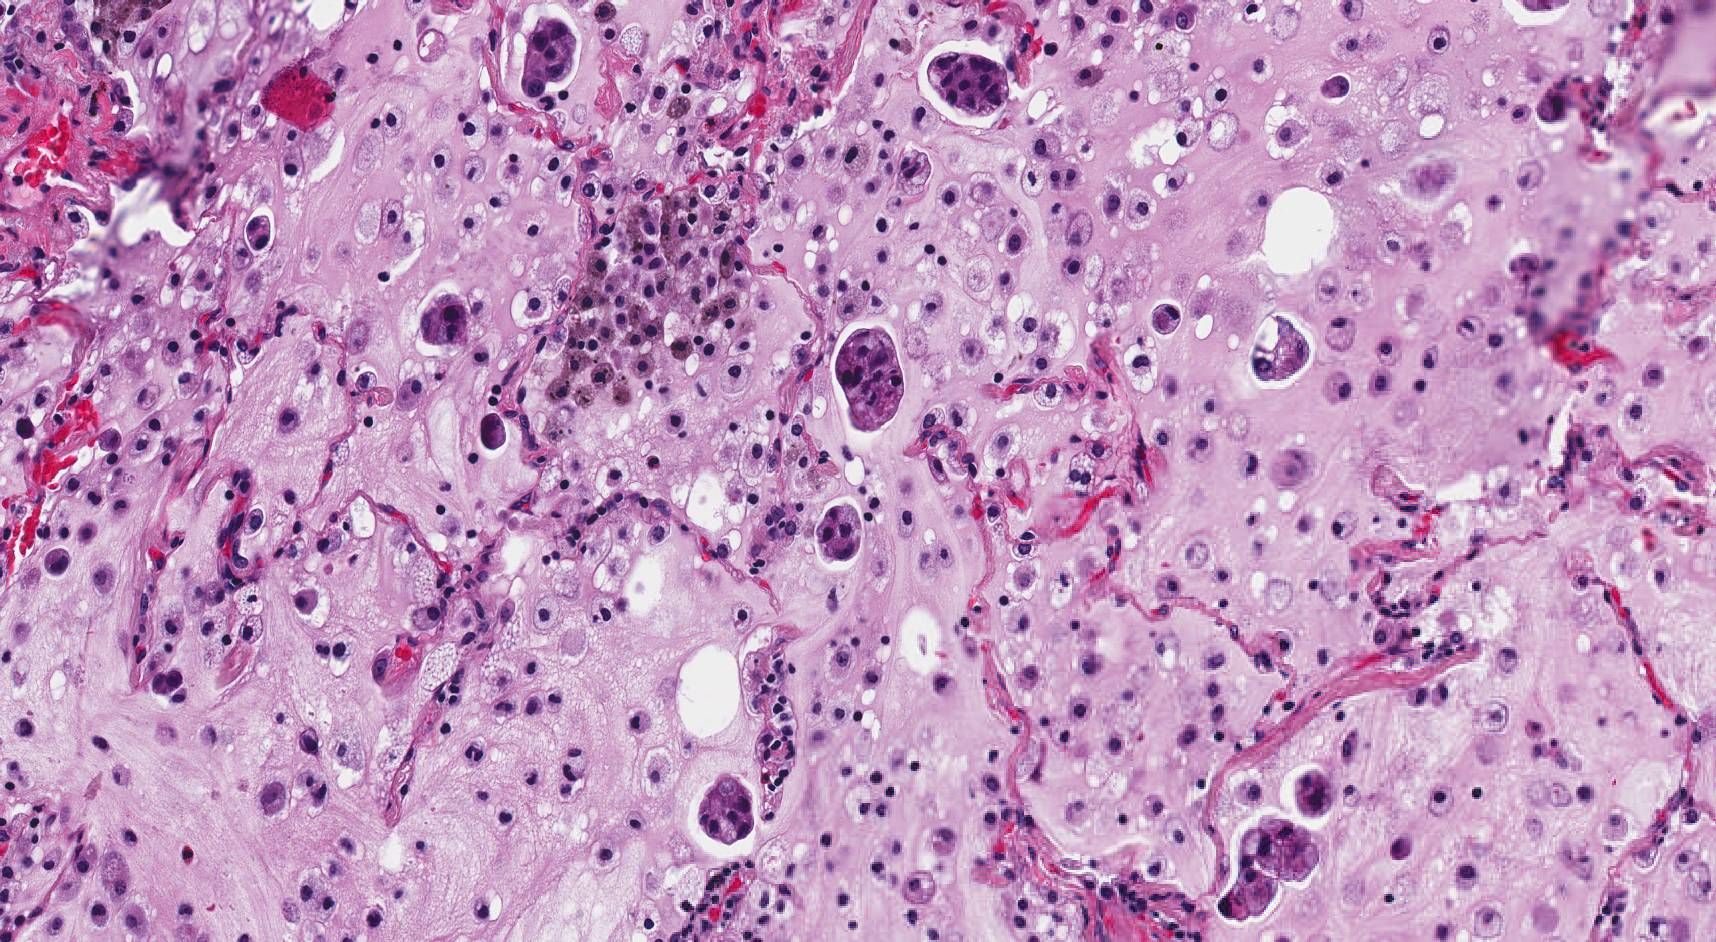stas: (1216, 815, 1322, 923), (835, 324, 902, 429), (929, 50, 1011, 114), (695, 773, 756, 847), (520, 18, 575, 98), (1252, 311, 1311, 380), (816, 503, 863, 560), (421, 294, 468, 345), (1295, 767, 1330, 817)
